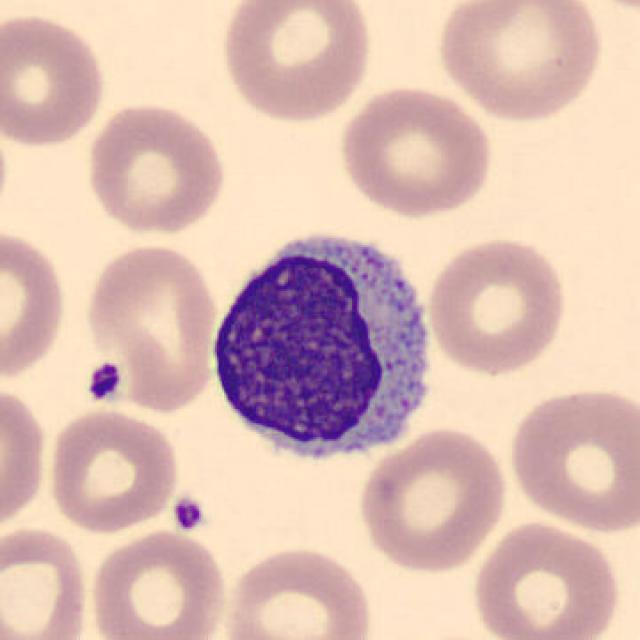Lymphocyte: (199, 219, 445, 474)
Platelets: (82, 358, 126, 405), (169, 492, 210, 534)
RBC: (80, 238, 222, 416), (354, 423, 512, 575), (430, 0, 610, 125), (334, 83, 496, 220), (423, 233, 571, 377), (503, 381, 638, 536), (82, 99, 229, 238), (215, 0, 377, 125), (468, 518, 626, 640), (43, 405, 183, 536), (85, 527, 231, 640), (219, 541, 377, 640), (0, 9, 110, 150), (0, 222, 71, 386), (0, 523, 92, 640), (0, 381, 50, 538)
